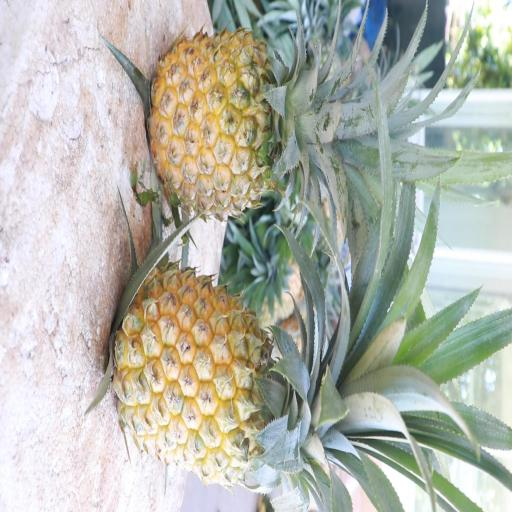Pineapple - v8 v1: (109, 266, 367, 485), (144, 20, 350, 225)
